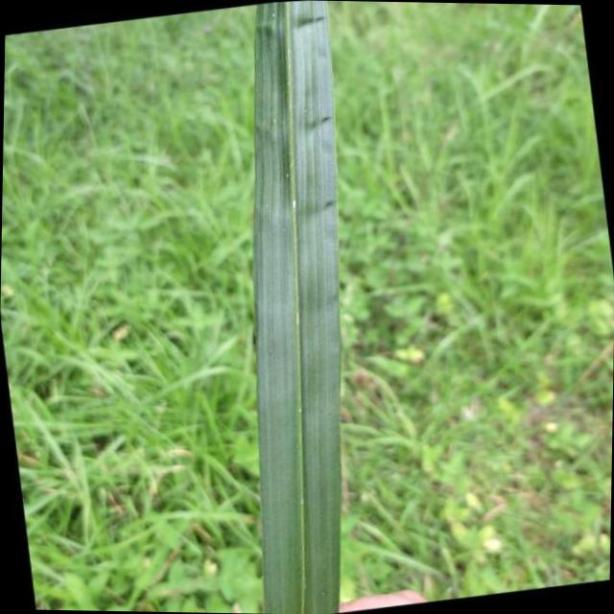Boron: (256, 0, 345, 614)
